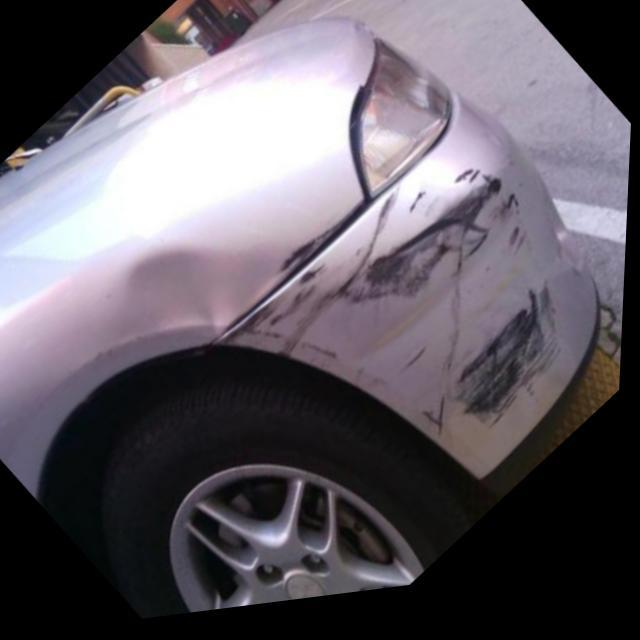dent: (125, 249, 289, 342)
rub: (218, 158, 572, 459)
scratch: (278, 207, 366, 282)
